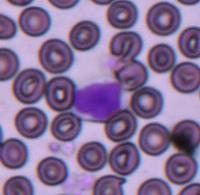M: (72, 78, 127, 122)
